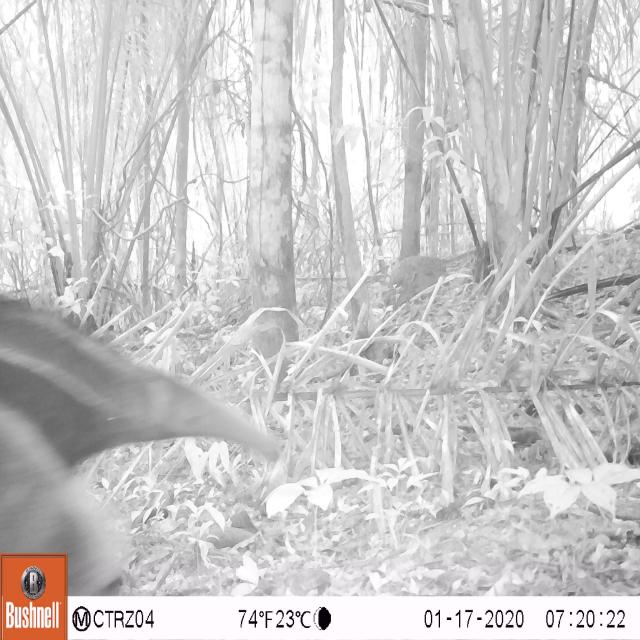Giant Anteater: (1, 281, 278, 594)
